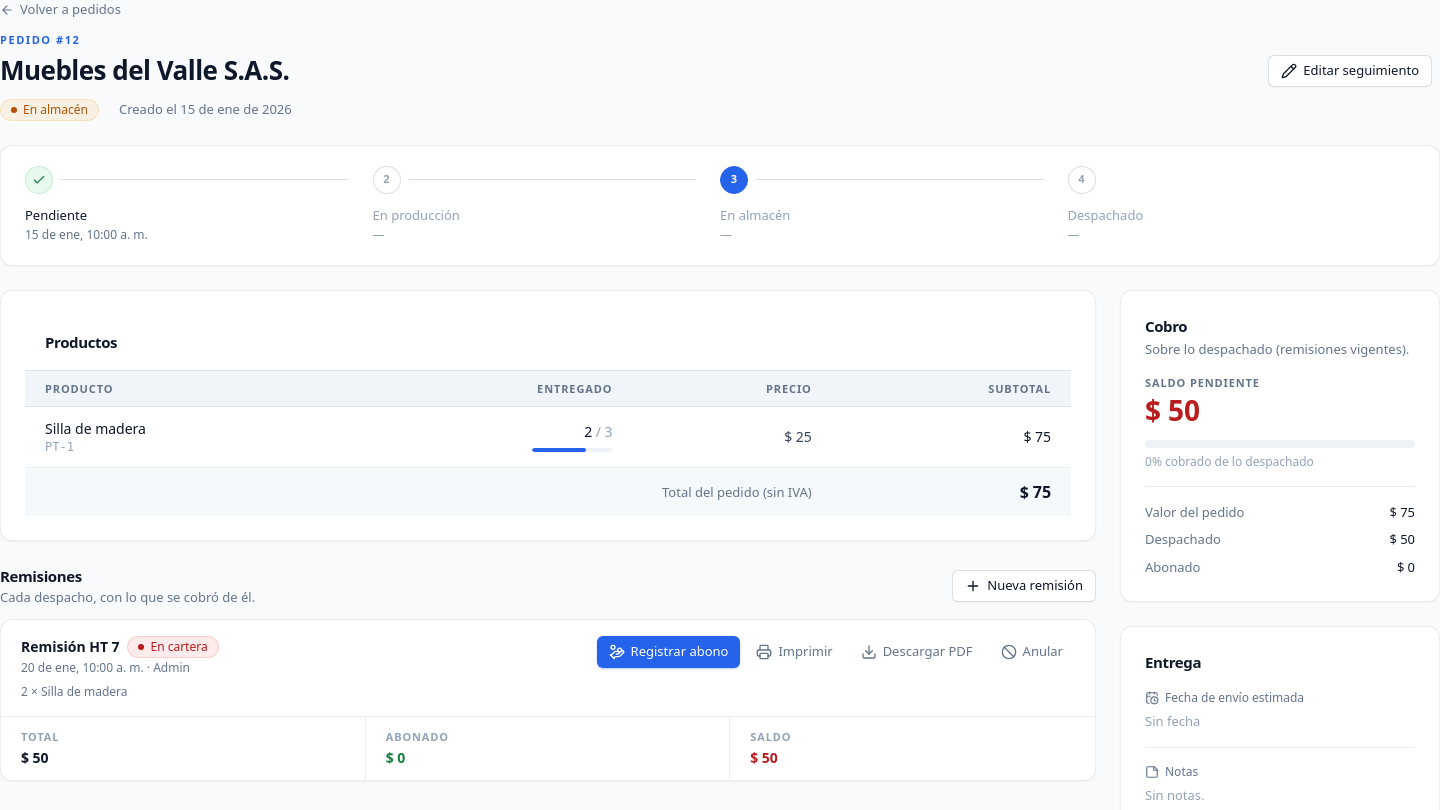
Scenario: OrderDetailPage › as ADMIN › opens and closes the void-remission modal
What coordinates should you click on to do the following:
click the button "Anular"
I would click on:
 (1032, 652)
Its box is x1=989 y1=636 x2=1075 y2=668.
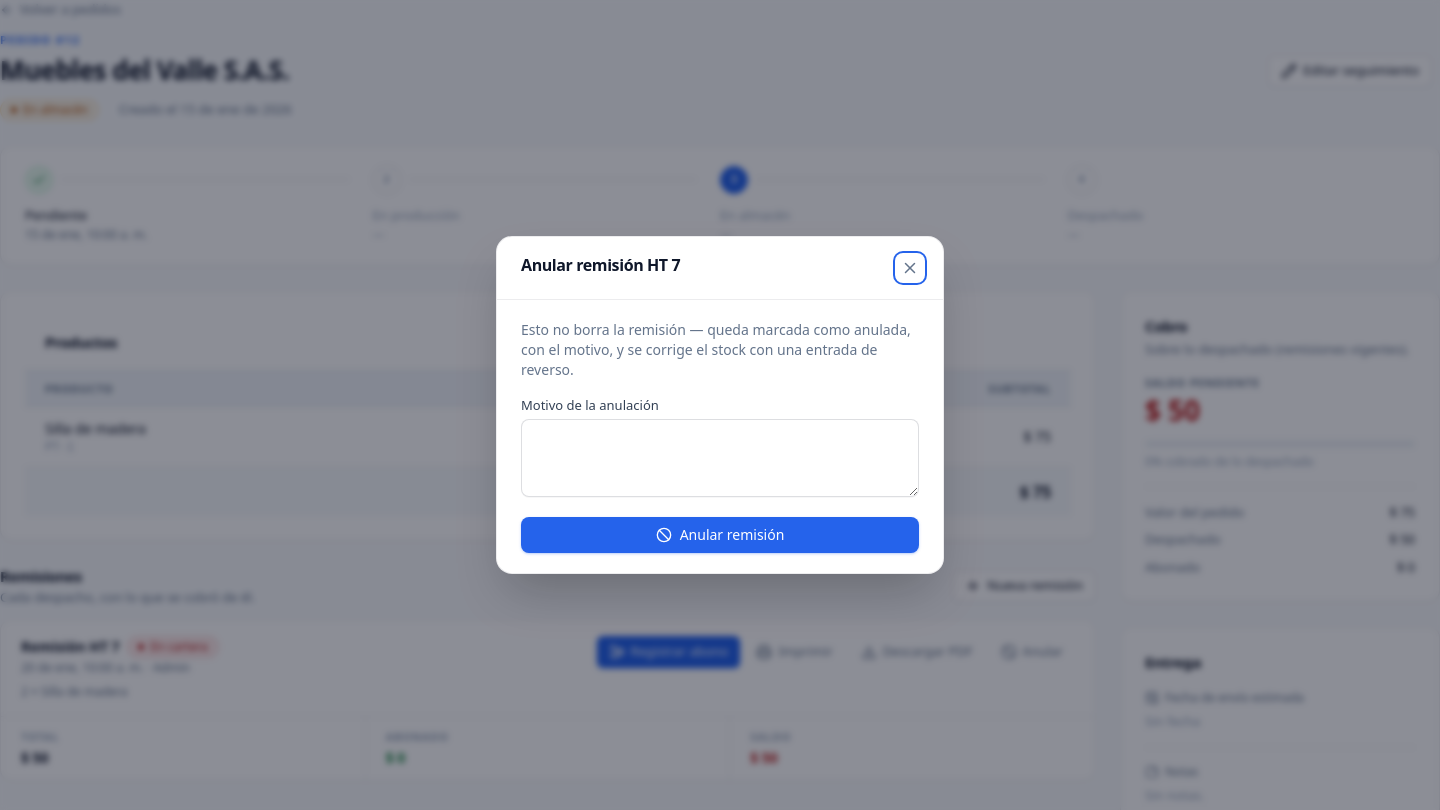
What coordinates should you click on to do the following:
click the button named "Cerrar"
I would click on:
 (910, 268)
Its box is x1=895 y1=253 x2=925 y2=283.
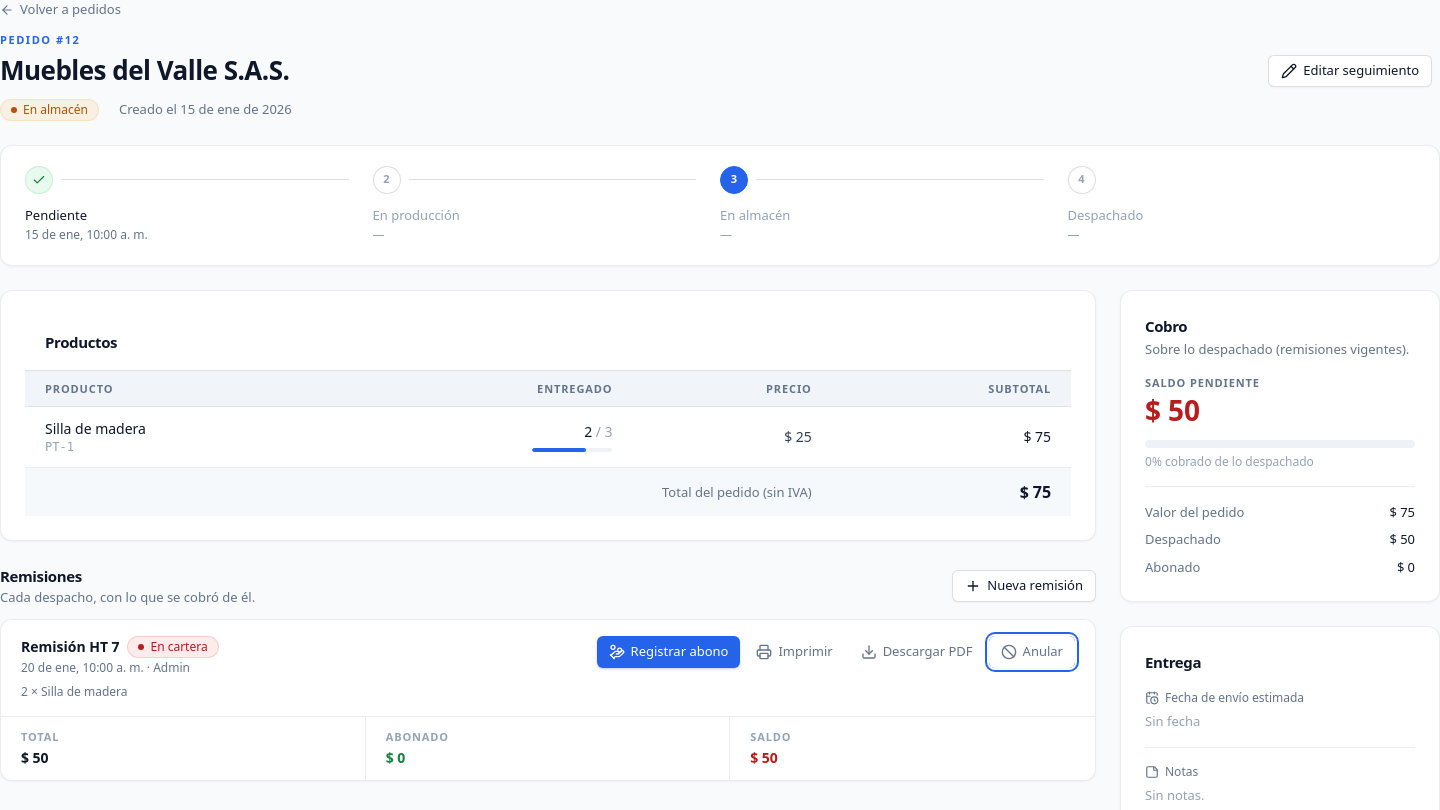
expect the dialog is gone: met
